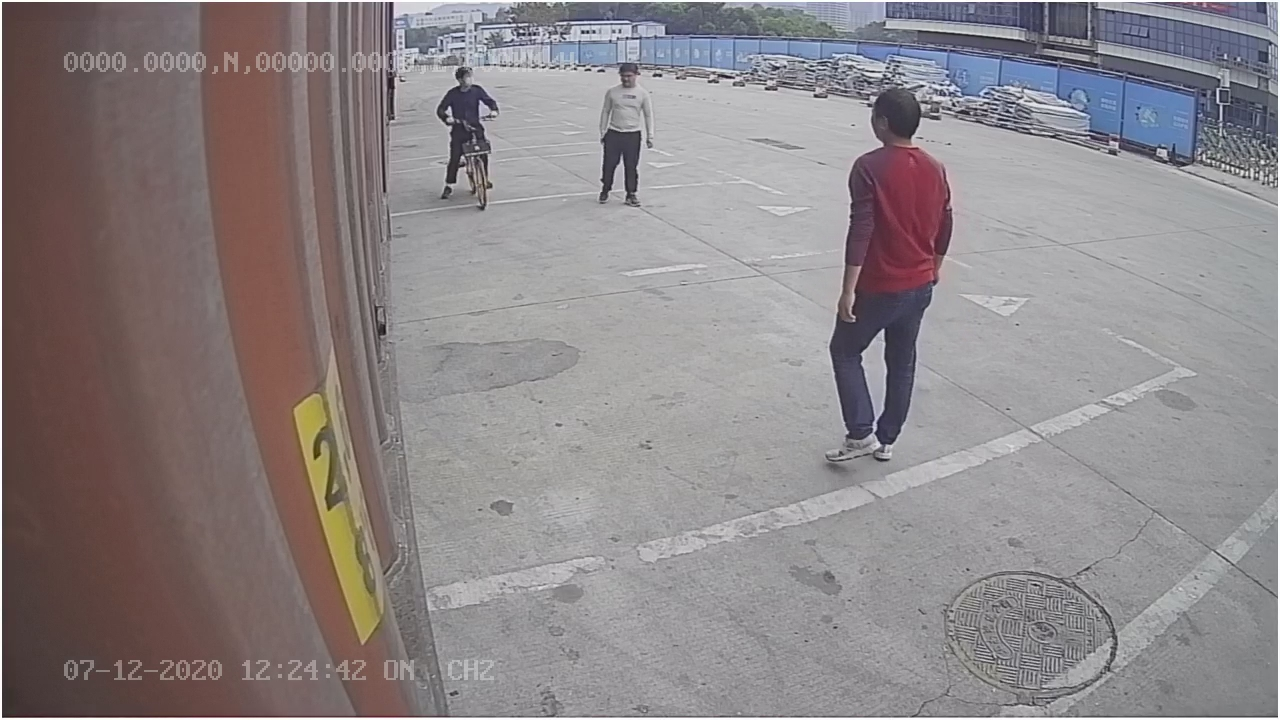person: (820, 80, 961, 467), (594, 58, 661, 212)
